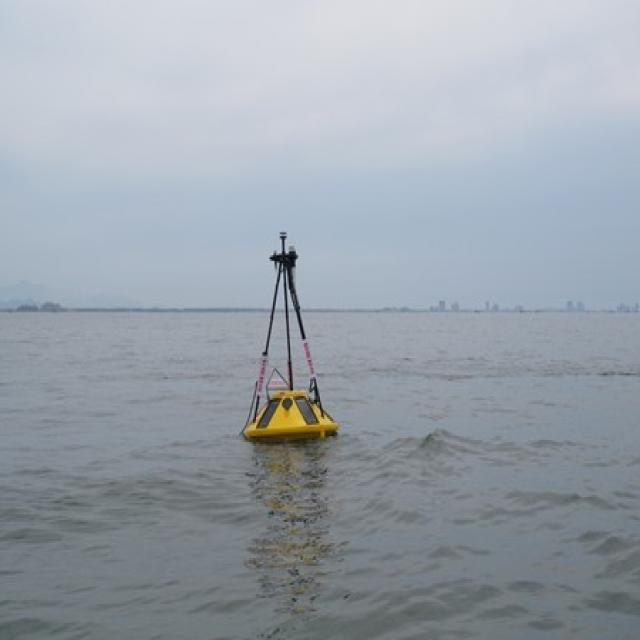buoy: (238, 222, 337, 444)
